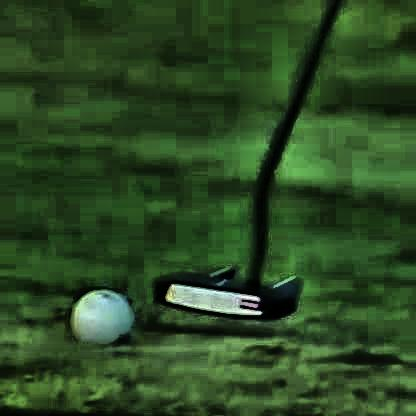golfball: (67, 289, 130, 346)
